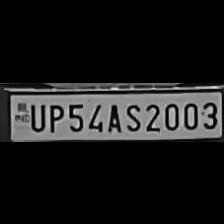0: (161, 99, 179, 129), (180, 100, 198, 128)
2: (142, 99, 160, 131)
3: (200, 98, 218, 130)
4: (86, 99, 104, 131)
5: (65, 99, 85, 131)
A: (104, 100, 120, 132)
P: (45, 100, 63, 132)
S: (122, 99, 142, 131)
U: (27, 100, 46, 132)
